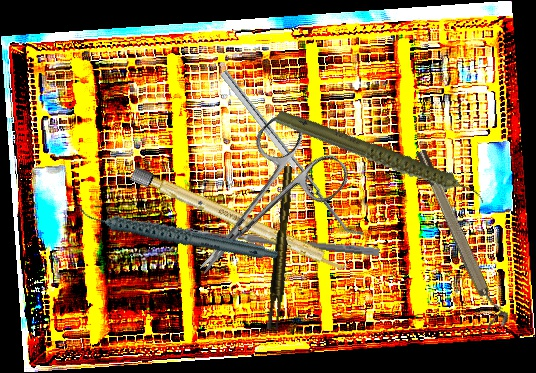Fixation Ring: (412, 144, 512, 333)
Handpiece: (272, 71, 488, 247), (74, 166, 280, 300)
Iris Scissors: (163, 107, 355, 302)
Scalpel Handle: (130, 166, 350, 275)
Spatula Surgical: (219, 64, 365, 244)
Surgical Spoon: (186, 226, 380, 257)
Tissue Forceps: (261, 165, 302, 331)
